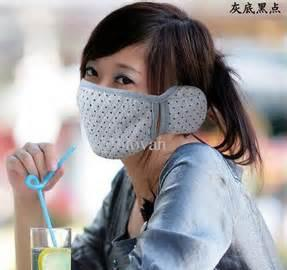OK: (78, 55, 173, 150)
